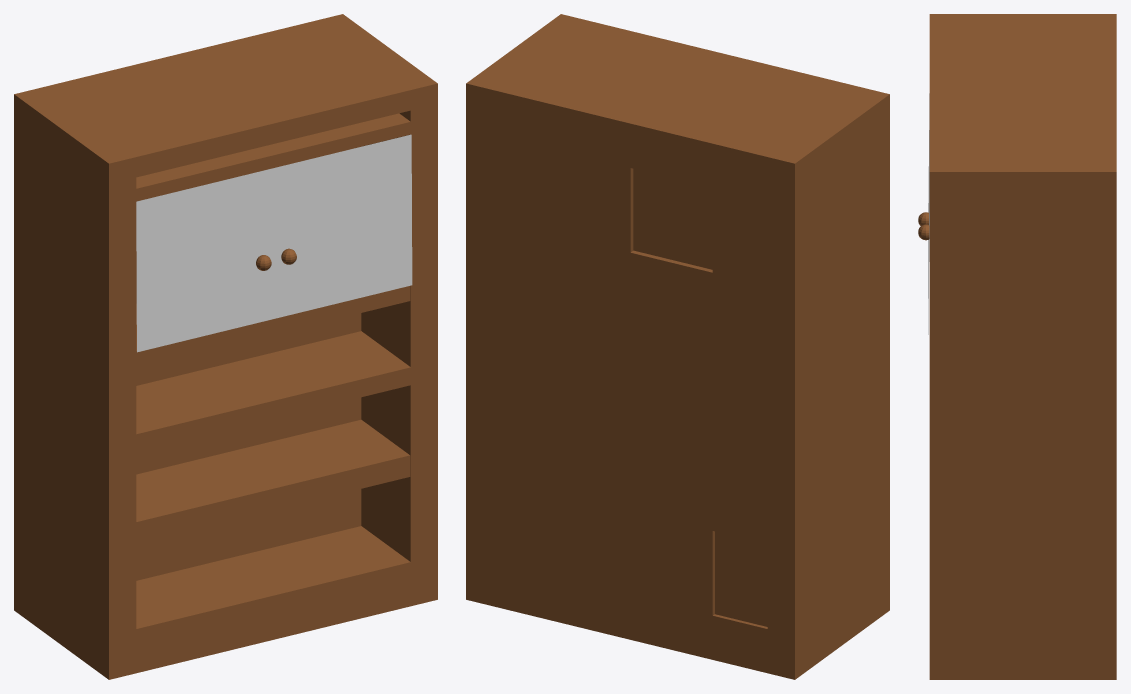
File: Cabinet.fbx
3 renders of one model, left to right at view 1: azimuth 30°, elevation 25°; view 2: azimuth 150°, elevation 25°; view 3: azimuth 270°, elevation 25°, orthographic.
Visible parts, largest first — view 1: pCube1, pPlane1, pPlane2; view 2: pCube1; view 3: pCube1.
Boxes of the visible parts, x1,y1,x2,y2 form: pCube1: (14, 14, 437, 679); pPlane1: (136, 167, 280, 352); pPlane2: (268, 134, 412, 319); pCube1: (466, 14, 889, 679); pCube1: (929, 14, 1116, 679).
Bounding box in the file's own units: 2 × 3 × 1.06.
